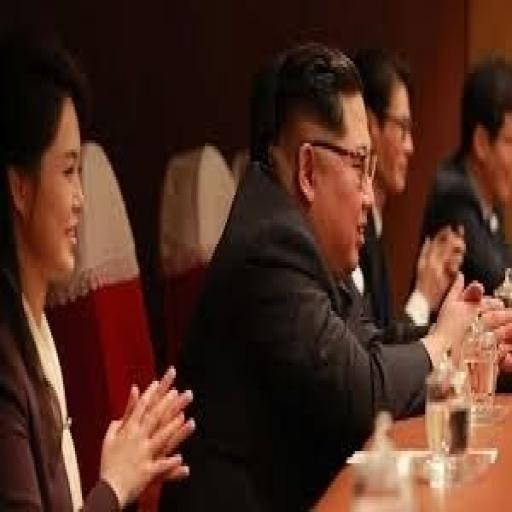clapping: (176, 40, 508, 509), (0, 42, 196, 509)
